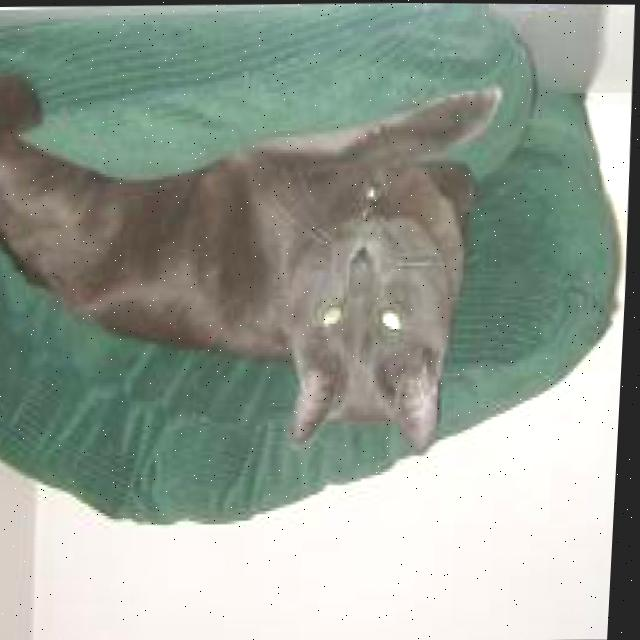Russian Blue: (0, 38, 514, 471)
